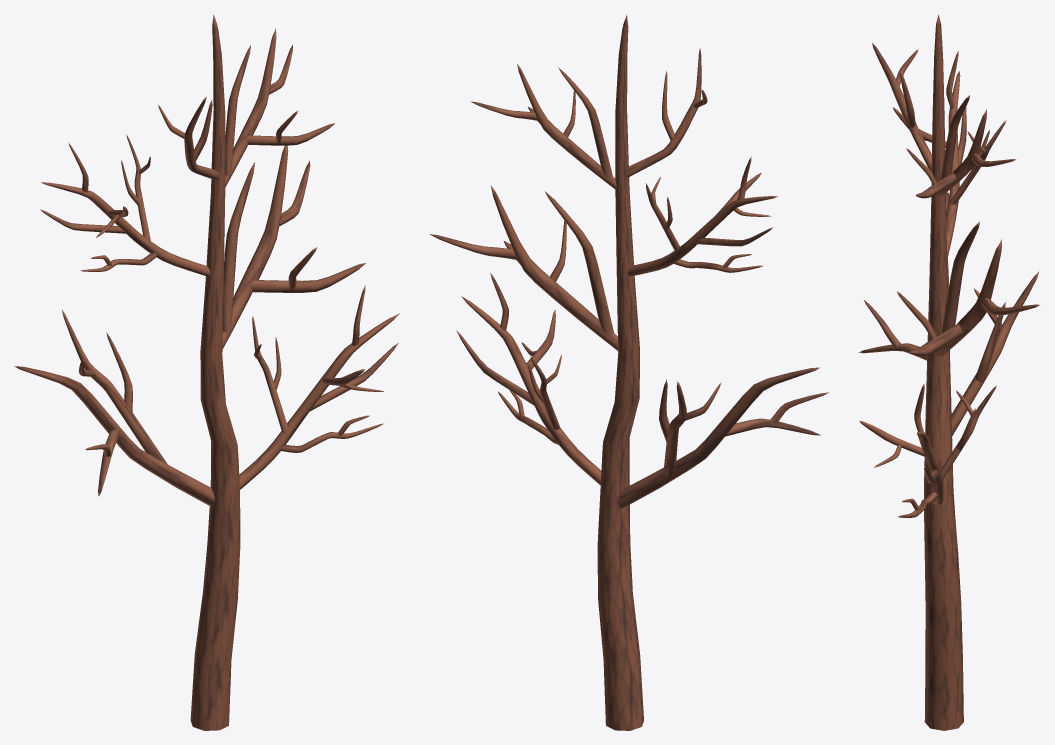
File: DeadTree_2.glb
3 renders of one model, left to right at view 1: azimuth 30°, elevation 25°; view 2: azimuth 150°, elevation 25°; view 3: azimuth 270°, elevation 25°, orthographic.
Bounding box in the file's own units: 3.42 × 6.2 × 1.45.
1 material, 1 textured.
